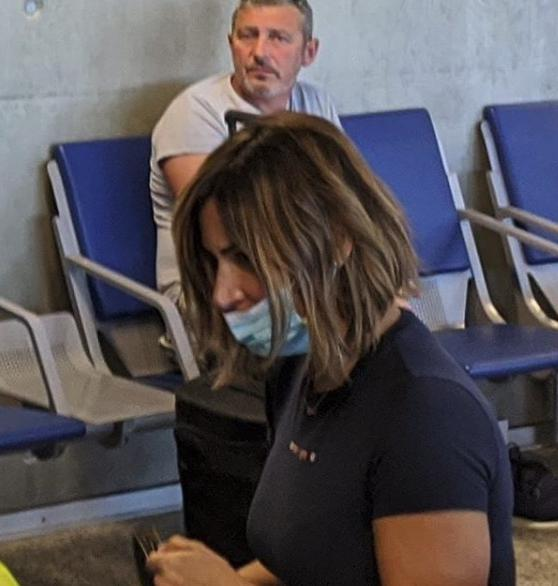mask_weared_incorrect: (199, 244, 299, 363)
without_mask: (228, 16, 306, 91)
